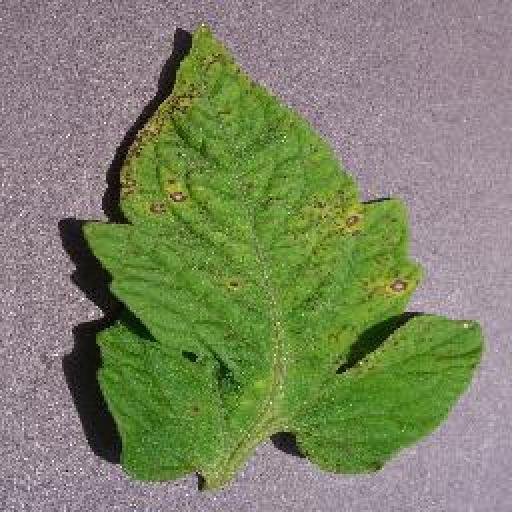Septoria: (74, 28, 487, 485)
